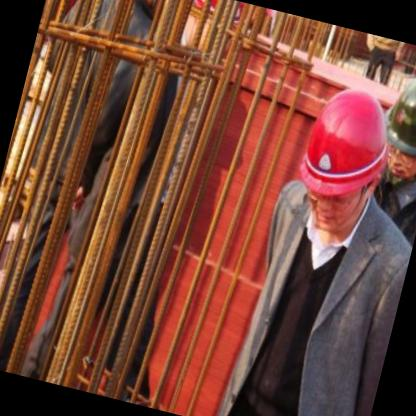helmet: (288, 77, 407, 244), (178, 1, 277, 77), (374, 58, 416, 187)
